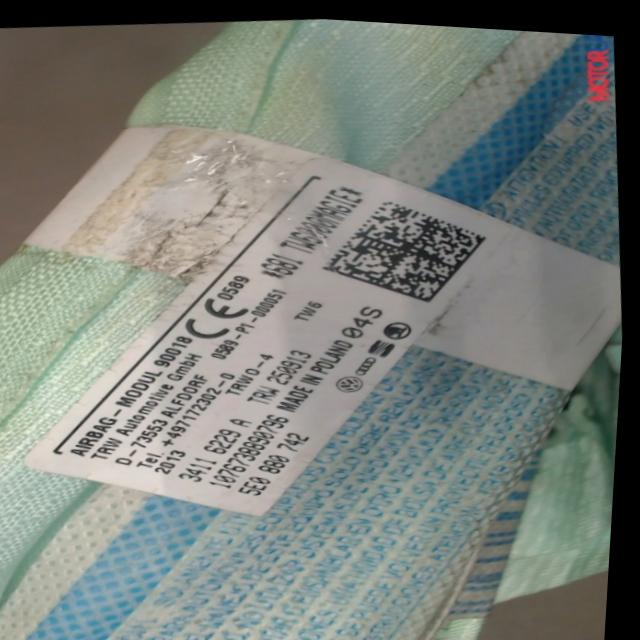datamatrix: (318, 184, 497, 308)
